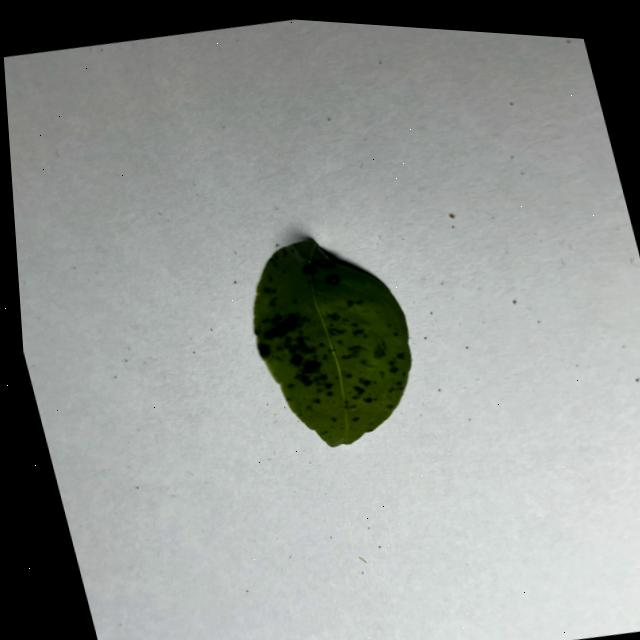sooty_mold: (255, 238, 411, 446)
